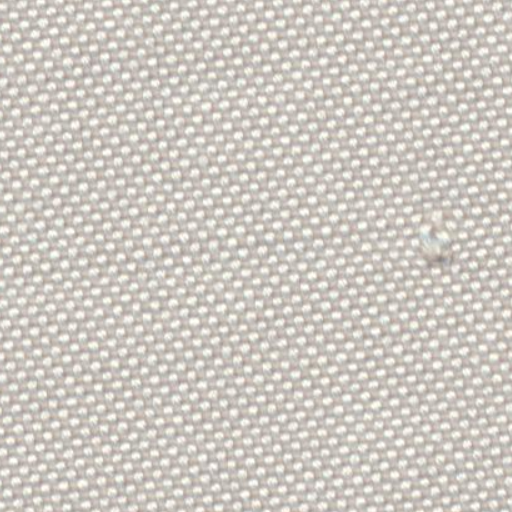PoDong: (398, 196, 480, 286)
